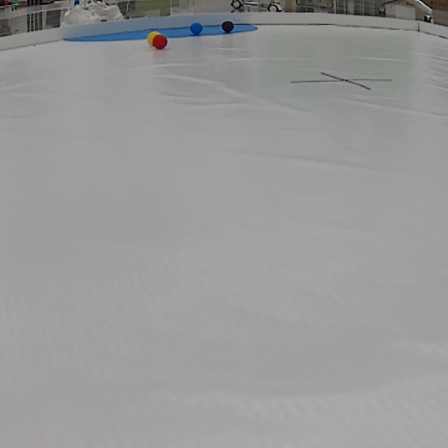black: (222, 21, 233, 31)
blue: (190, 21, 203, 33)
blue_base: (67, 23, 257, 40)
red: (154, 37, 166, 50)
yellow: (145, 31, 161, 41)
